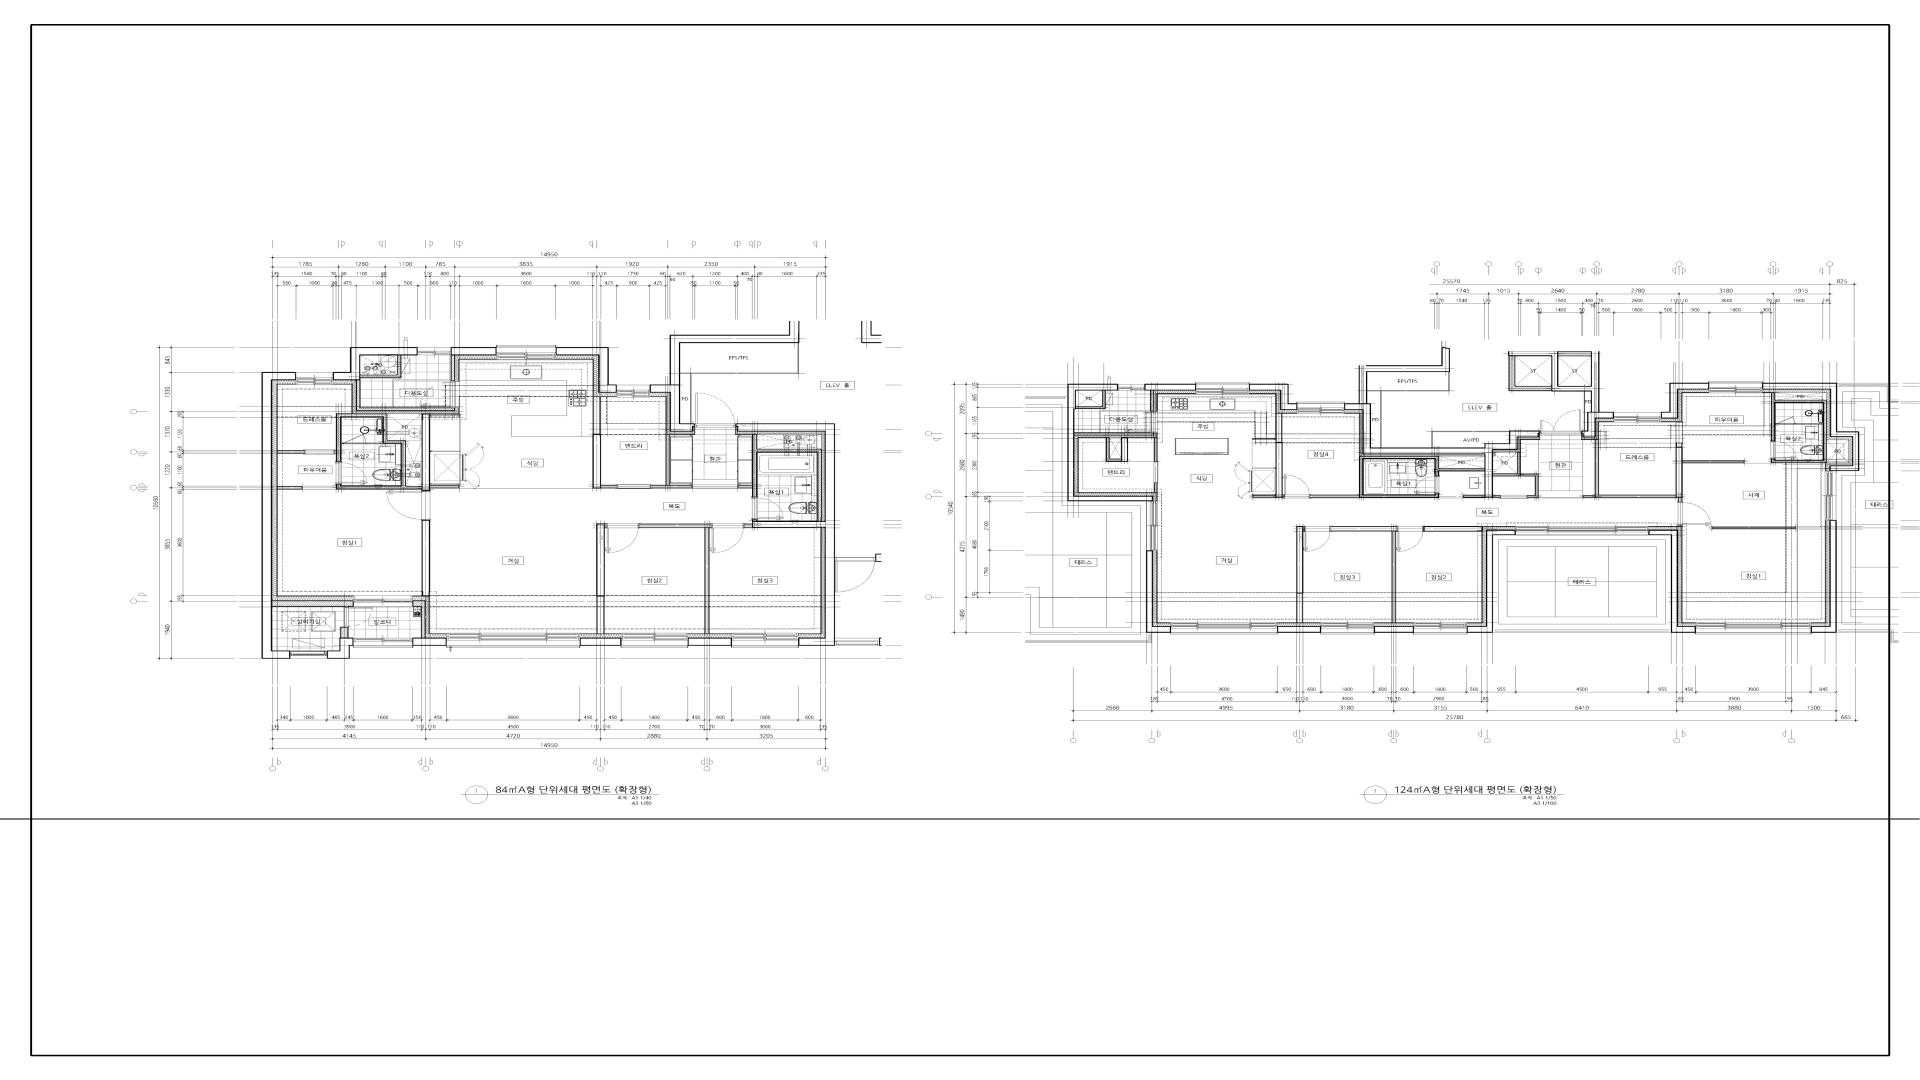door: (695, 393, 736, 427), (386, 491, 430, 521), (605, 524, 640, 554), (711, 524, 745, 554), (1539, 410, 1581, 434), (419, 381, 455, 407), (1679, 502, 1710, 526), (752, 497, 785, 520), (336, 462, 368, 484), (1396, 526, 1423, 553), (1303, 526, 1331, 551), (1126, 411, 1158, 433), (1282, 475, 1309, 498), (344, 608, 373, 628), (1771, 442, 1796, 459), (1414, 476, 1439, 493), (342, 434, 367, 444), (305, 450, 335, 455), (617, 485, 650, 489), (1154, 462, 1158, 483), (1501, 496, 1527, 498)
wall: (1344, 347, 1540, 498), (736, 423, 835, 646), (650, 320, 799, 431), (1582, 439, 1745, 502), (261, 372, 297, 659), (1067, 384, 1153, 501), (334, 414, 460, 491), (1509, 351, 1614, 438), (1762, 382, 1859, 471), (640, 524, 711, 634), (1309, 456, 1485, 498), (737, 434, 822, 521), (1331, 526, 1396, 624), (1367, 372, 1449, 447), (1466, 530, 1516, 633), (1648, 530, 1696, 633), (1771, 393, 1826, 463), (356, 380, 455, 411), (1811, 521, 1837, 633), (332, 347, 418, 380), (556, 347, 617, 393), (1253, 413, 1282, 498), (650, 435, 694, 489), (592, 396, 617, 489), (1493, 452, 1539, 498), (1146, 550, 1171, 633), (1662, 382, 1709, 419), (1509, 356, 1551, 392), (1249, 384, 1298, 410), (1432, 431, 1509, 447), (596, 524, 605, 634), (360, 356, 401, 378), (1296, 526, 1303, 624), (422, 521, 430, 596), (1076, 390, 1106, 409), (327, 638, 353, 659), (272, 600, 353, 607), (413, 600, 426, 638), (1106, 438, 1127, 462), (451, 347, 496, 356), (688, 638, 732, 646), (1145, 384, 1196, 390), (580, 638, 621, 646), (1424, 526, 1484, 531), (1712, 526, 1825, 529), (1276, 626, 1321, 633), (1374, 626, 1414, 633), (413, 638, 446, 646), (1075, 433, 1154, 435), (1559, 351, 1592, 356), (277, 450, 305, 454), (451, 356, 455, 381), (1154, 438, 1158, 462), (1150, 390, 1154, 411), (340, 628, 348, 638), (277, 487, 303, 489), (1464, 496, 1485, 498), (1154, 483, 1158, 492), (745, 524, 752, 529), (1493, 496, 1501, 498), (752, 520, 757, 521)
window: (446, 633, 580, 647), (1696, 622, 1812, 634), (1171, 622, 1278, 634), (1515, 526, 1648, 535), (621, 633, 688, 647), (732, 633, 799, 647), (496, 345, 556, 360), (1196, 382, 1250, 394), (1709, 381, 1762, 393), (1414, 622, 1466, 634), (1321, 622, 1374, 634), (353, 596, 413, 607), (1146, 501, 1158, 551), (1298, 402, 1345, 414), (353, 638, 413, 647), (1825, 471, 1836, 521), (295, 372, 334, 385), (1614, 413, 1662, 422), (617, 385, 650, 397), (290, 650, 327, 659), (418, 347, 451, 356), (1118, 384, 1145, 390)
